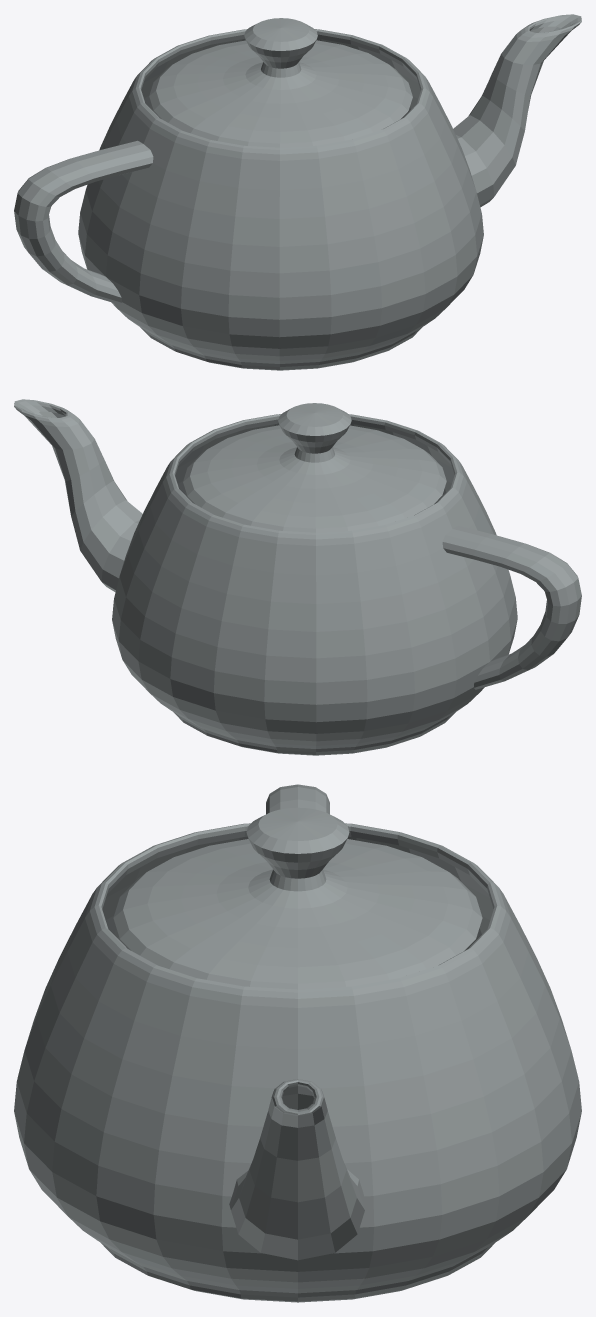
File: teapot.obj
3 views of the same model, one above another, from view 1: azimuth 30°, elevation 25°; view 2: azimuth 150°, elevation 25°; view 3: azimuth 270°, elevation 25° (orthographic). The views are drawn at different scales.
Visible parts, largest first — view 1: Teapot; view 2: Teapot; view 3: Teapot.
Part boxes in pixels (<box>): Teapot: <box>14,14,581,370</box>; Teapot: <box>14,399,581,755</box>; Teapot: <box>14,784,581,1302</box>.
Bounding box in the file's own units: 2.6 × 1.27 × 1.62.
